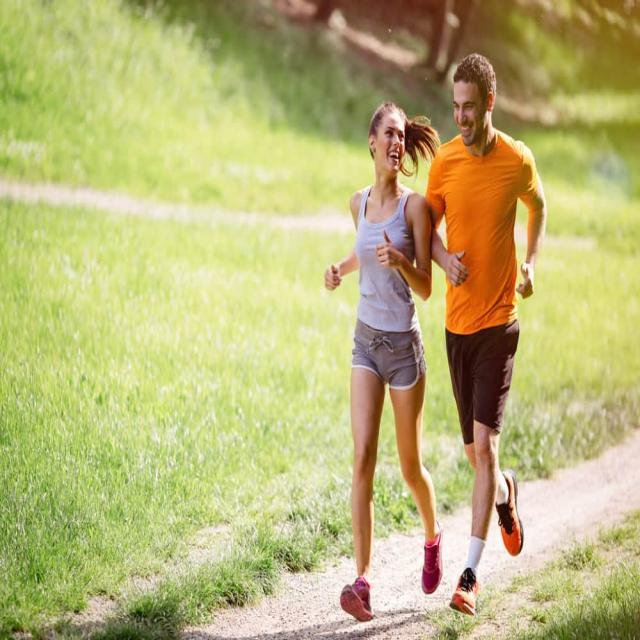Person: (419, 50, 547, 616), (322, 100, 446, 626)
